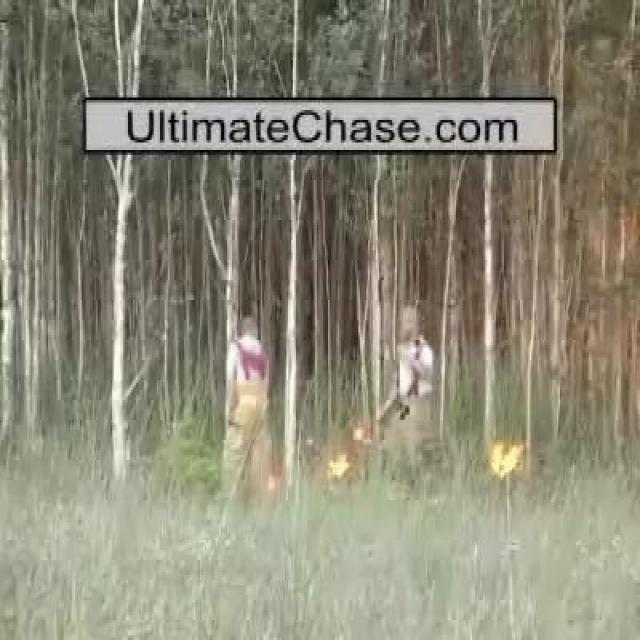Fire: (328, 426, 370, 482), (494, 442, 524, 480)
